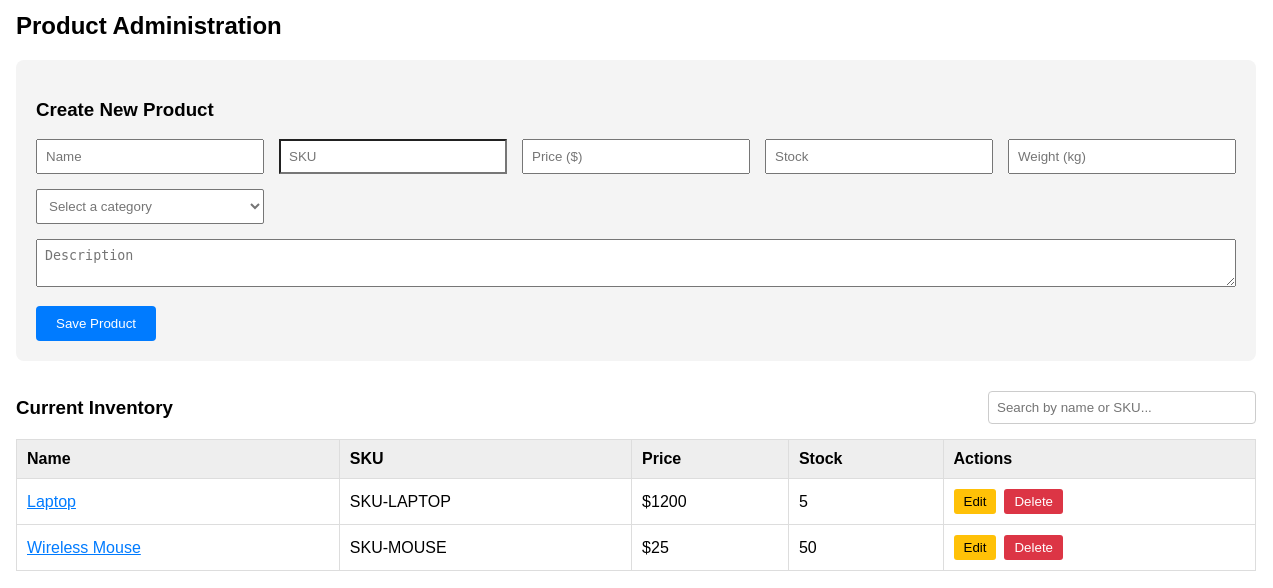
Test case: ProductAdmin Component › loads product data when clicking on the product name
The width and height of the screenshot is (1273, 588).
Click the text "Laptop".
click(51, 501)  # box left=27, top=493, right=76, bottom=510
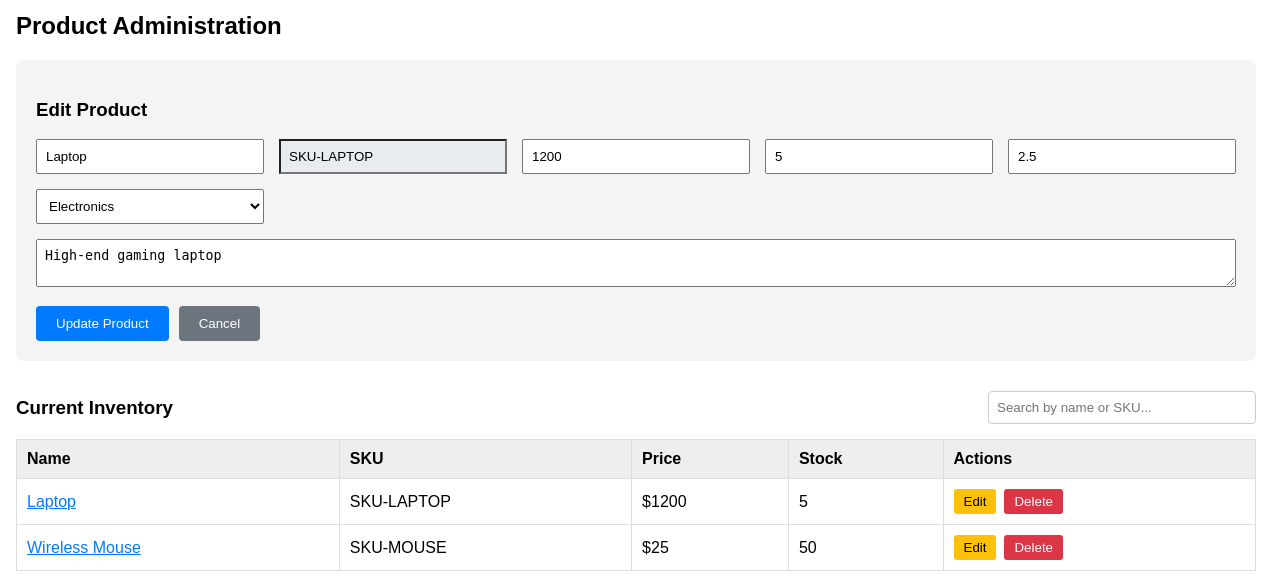
Result: the heading "Edit Product" is shown at left=36, top=98, right=147, bottom=120
Result: the field with placeholder "Name" holds "Laptop" at left=36, top=139, right=264, bottom=174
